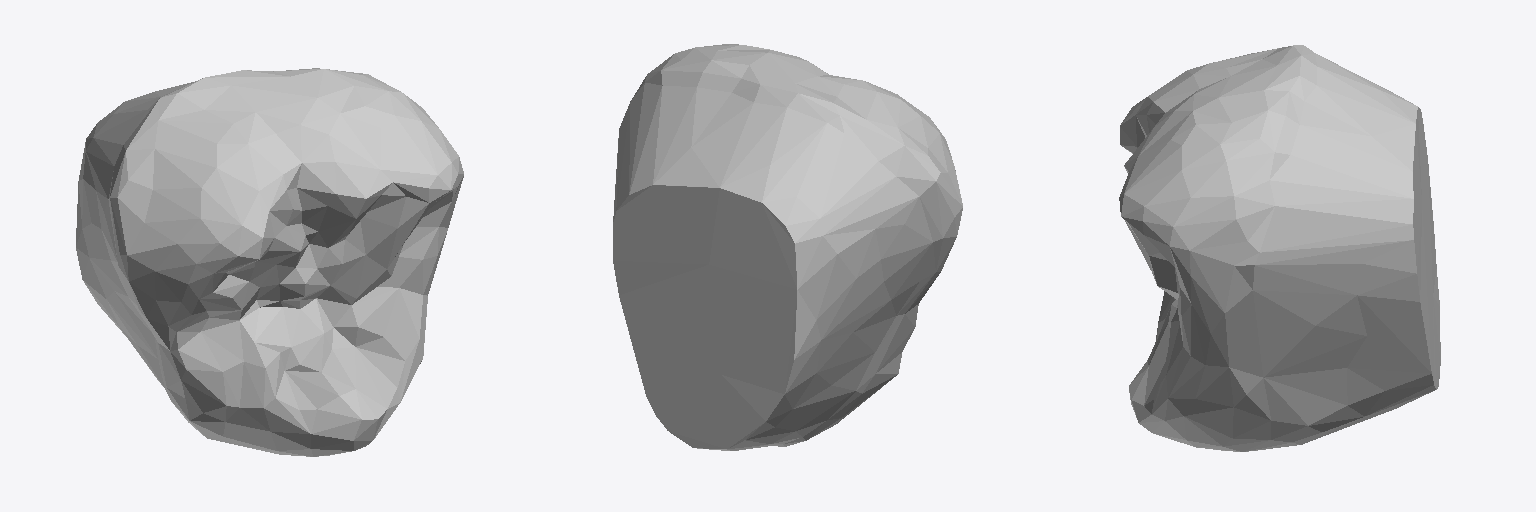
The model's file is local_t17_7780_si.OBJ.
3 renders of one model, left to right at view 1: azimuth 30°, elevation 25°; view 2: azimuth 150°, elevation 25°; view 3: azimuth 270°, elevation 25°, orthographic.
Visible parts, largest first — view 1: Group20682; view 2: Group20682; view 3: Group20682.
Boxes of the visible parts, x1,y1,x2,y2 form: Group20682: [76, 68, 463, 456]; Group20682: [613, 44, 962, 450]; Group20682: [1119, 45, 1440, 451].
Size of the model in its own units: 10.27 by 10.92 by 8.82.